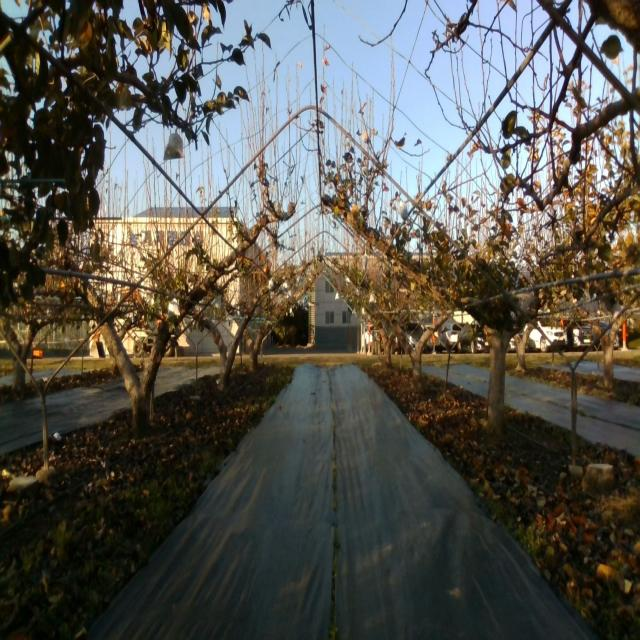pearbags: (164, 132, 183, 160), (167, 298, 180, 322), (398, 201, 409, 222)
